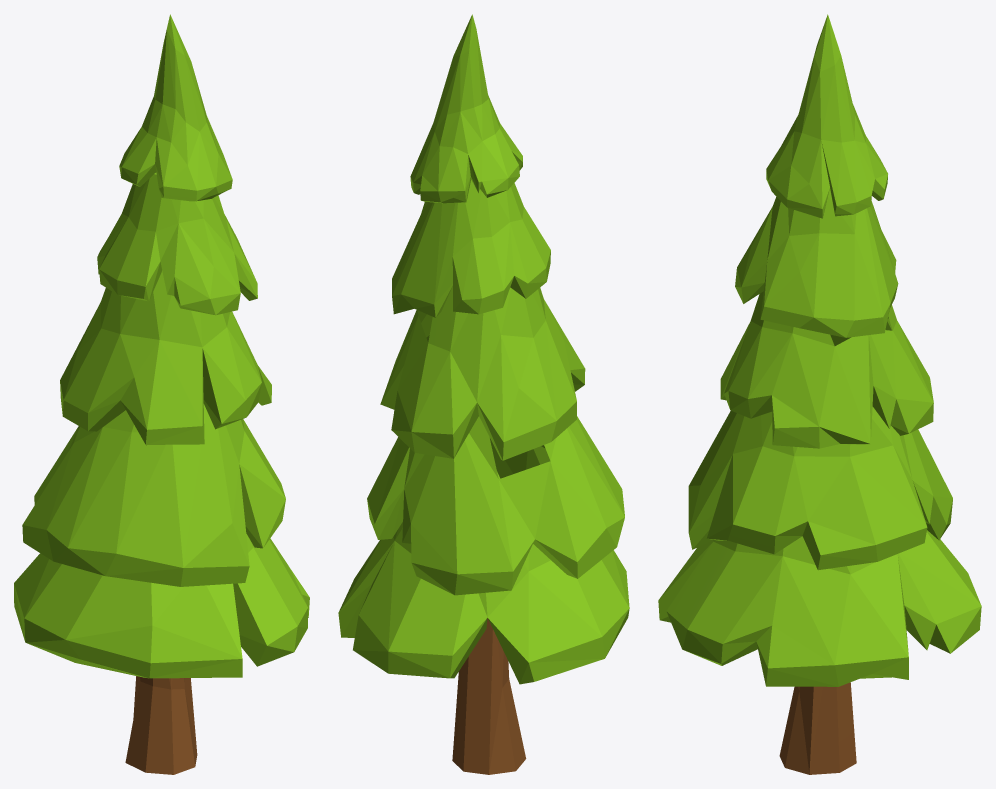
Rendered from pine-tree.glb.
3 renders of one model, left to right at view 1: azimuth 30°, elevation 25°; view 2: azimuth 150°, elevation 25°; view 3: azimuth 270°, elevation 25°, orthographic.
Parts seen in each view (by area): view 1: Lowpoly_Tree_09.017; view 2: Lowpoly_Tree_09.017; view 3: Lowpoly_Tree_09.017.
Boxes of the visible parts, left/top/right/bottom form: Lowpoly_Tree_09.017: left=14, top=14, right=309, bottom=774; Lowpoly_Tree_09.017: left=338, top=14, right=629, bottom=774; Lowpoly_Tree_09.017: left=658, top=14, right=981, bottom=774.
Bounding box in the file's own units: 6.07 × 17.05 × 6.64.
